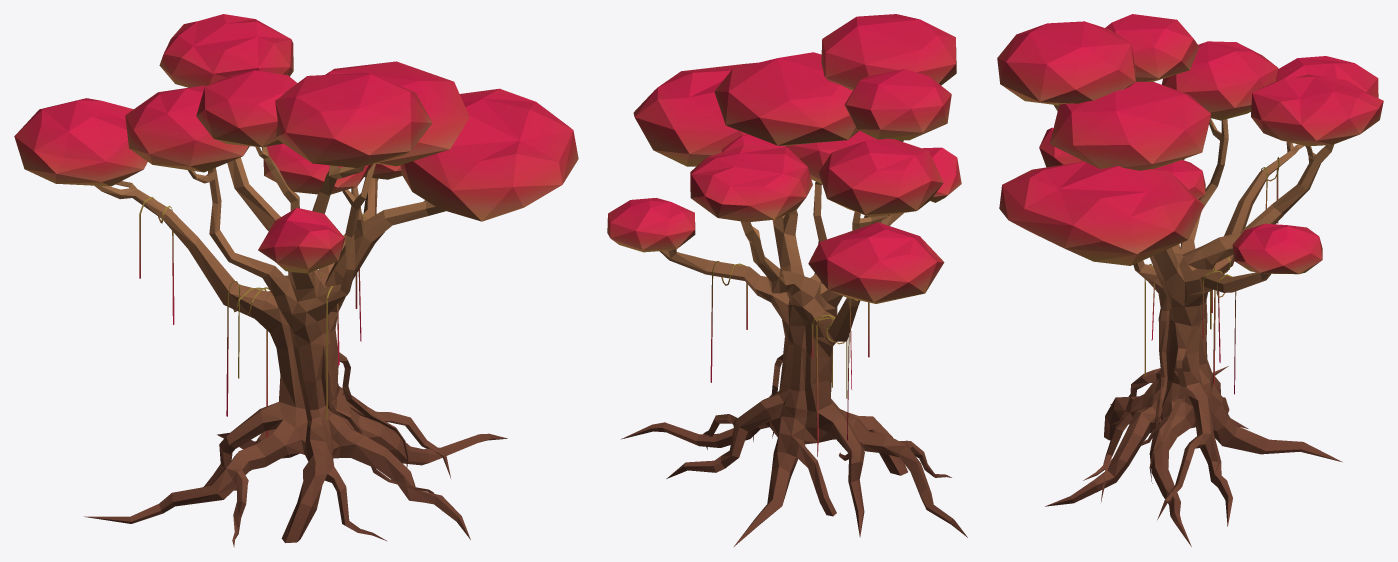
Rendered from ZLP_Plant_A_1.FBX.
The picture shows the model from 3 angles, left to right: view 1: azimuth 30°, elevation 25°; view 2: azimuth 150°, elevation 25°; view 3: azimuth 270°, elevation 25°; orthographic projection. The views are drawn at different scales.
Visible parts, largest first — view 1: ZLP_Plant_A_1; view 2: ZLP_Plant_A_1; view 3: ZLP_Plant_A_1.
Boxes of the visible parts, x1,y1,x2,y2 form: ZLP_Plant_A_1: (14,14,578,547); ZLP_Plant_A_1: (607,14,967,546); ZLP_Plant_A_1: (997,14,1383,546).
Size of the model in its own units: 1115 by 1179 by 970.
